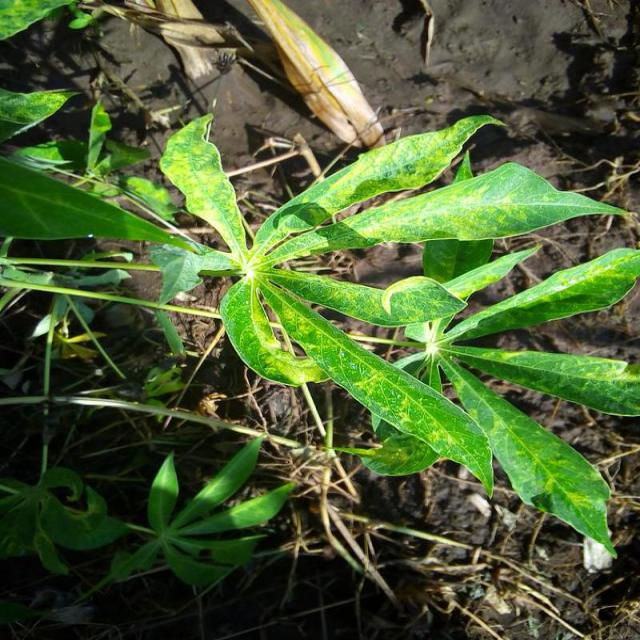cassava leaf: (151, 108, 639, 559), (257, 272, 496, 498)
